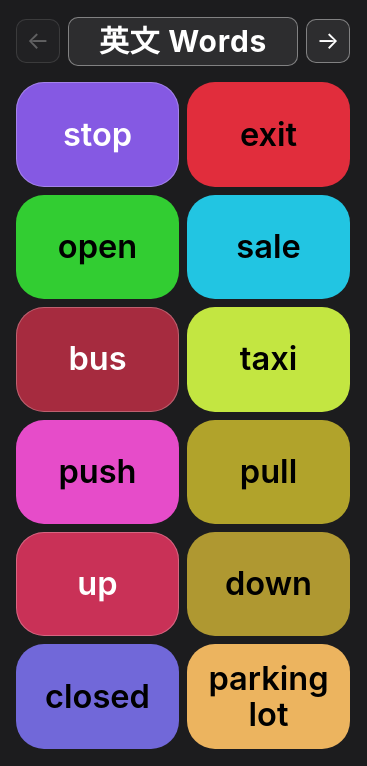
Test: switches to Taigi and plays the matching audio clip
The image size is (367, 766).
Later steps or results of the test are not shown.
Click the button with aria-label "switch language" at {"x": 183, "y": 41}, box [68, 17, 298, 66]
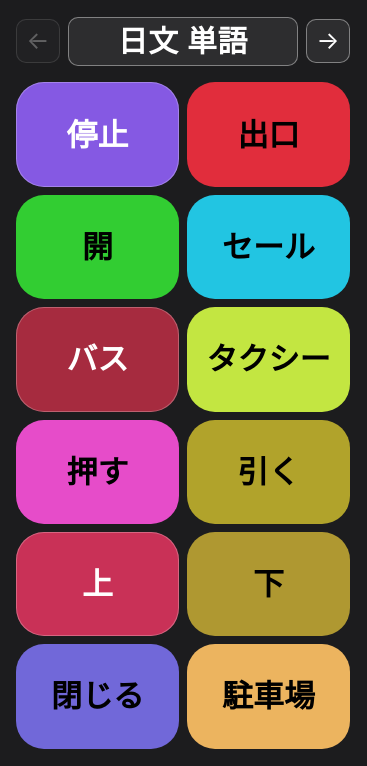
Click the button with aria-label "switch language" at {"x": 183, "y": 41}, box [68, 17, 298, 66]
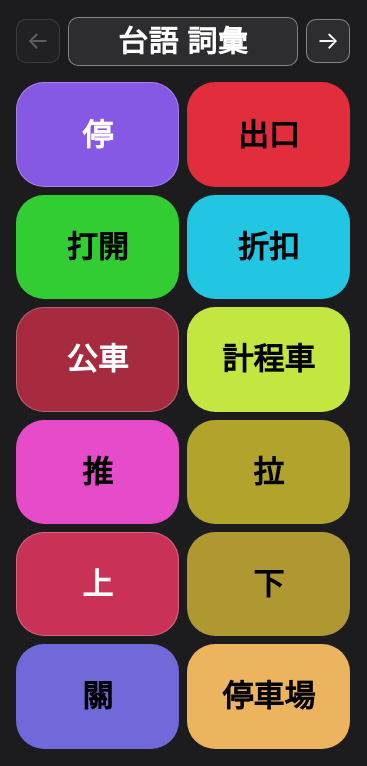
Expected: the heading "台語 詞彙" is shown, [68, 25, 298, 58]
Click the button "公車" at {"x": 98, "y": 359}, box [16, 307, 179, 412]
Expected: the button "公車" is shown, [16, 307, 179, 412]
